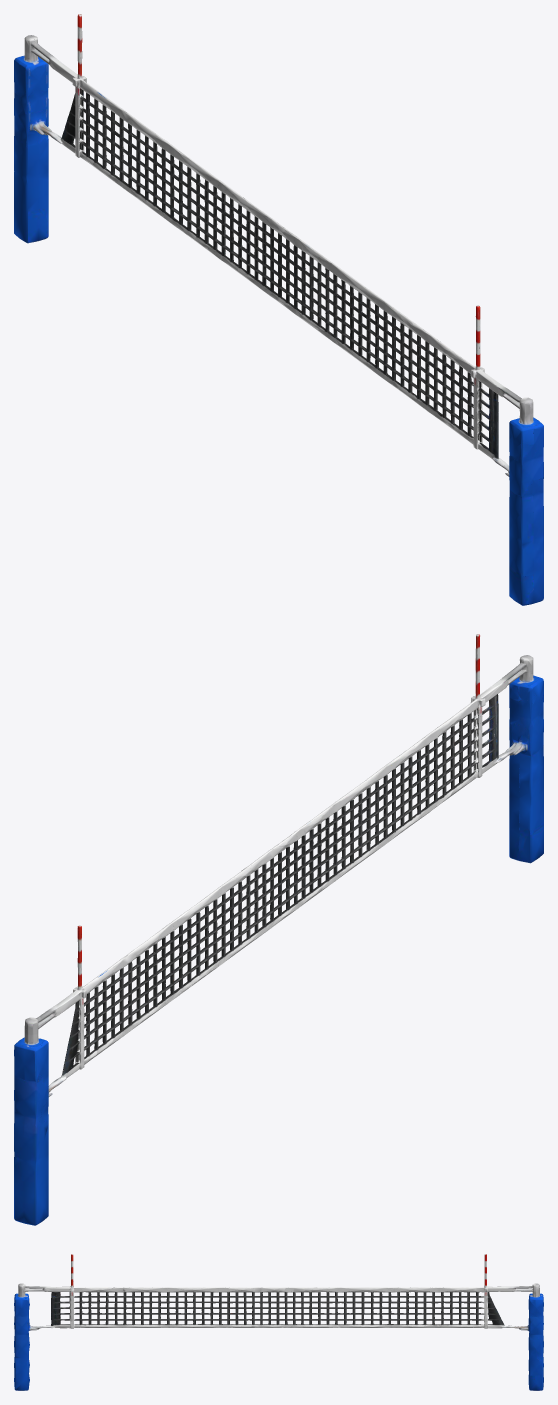
File: net_meshy.glb
3 renders of one model, top to bottom at view 1: azimuth 30°, elevation 25°; view 2: azimuth 150°, elevation 25°; view 3: azimuth 270°, elevation 25°, orthographic. The views are drawn at different scales.
Parts seen in each view (by area): view 1: net_meshy; view 2: net_meshy; view 3: net_meshy.
Boxes of the visible parts, bbox=[...] form: net_meshy: bbox=[14, 14, 543, 605]; net_meshy: bbox=[14, 634, 543, 1225]; net_meshy: bbox=[14, 1254, 543, 1390].
Size of the model in its own units: 0.336 by 3.22 by 11.53.
Materials: 1 (1 with a texture image).
